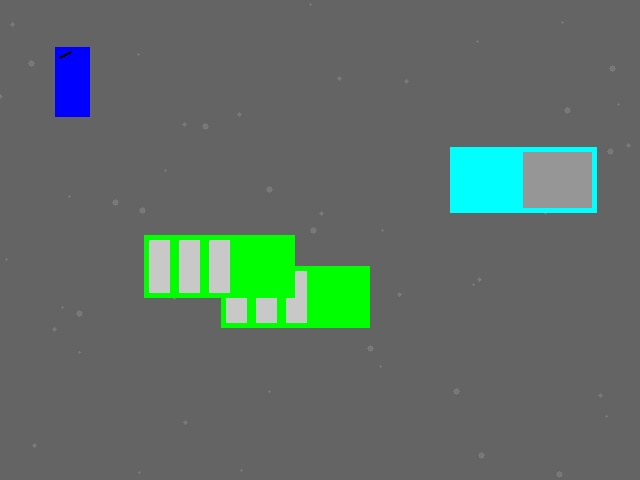bus: (144, 235, 294, 297), (221, 266, 369, 327)
motorcycle: (55, 47, 89, 116)
truck: (450, 147, 596, 212)
